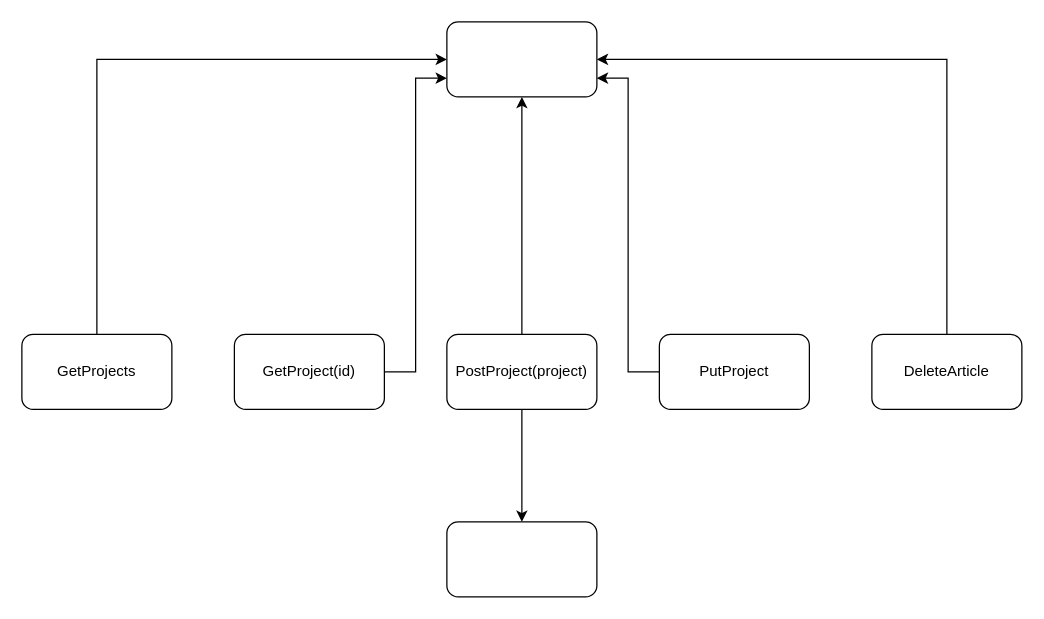
This 1044x619 diagram has some shape labels left out. The shapes that lost their labels are listed below. From the top down, each one's centre as x and y in pixels, then its label:
At point (521, 59): "SanityHandler".
At point (521, 559): "TwitterHandler".
